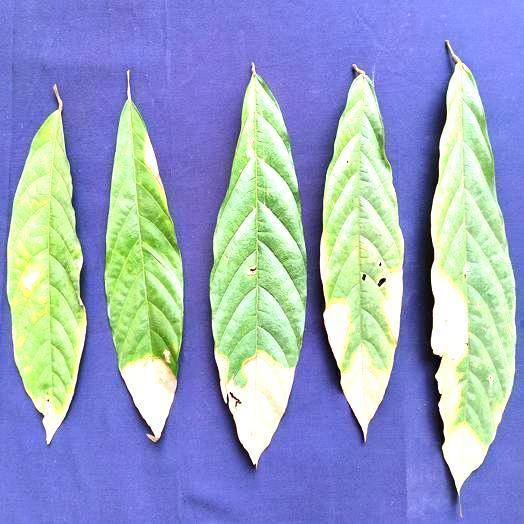Potassium: (430, 42, 515, 495), (210, 65, 306, 465), (320, 64, 403, 440), (104, 71, 183, 441), (7, 85, 86, 443)
